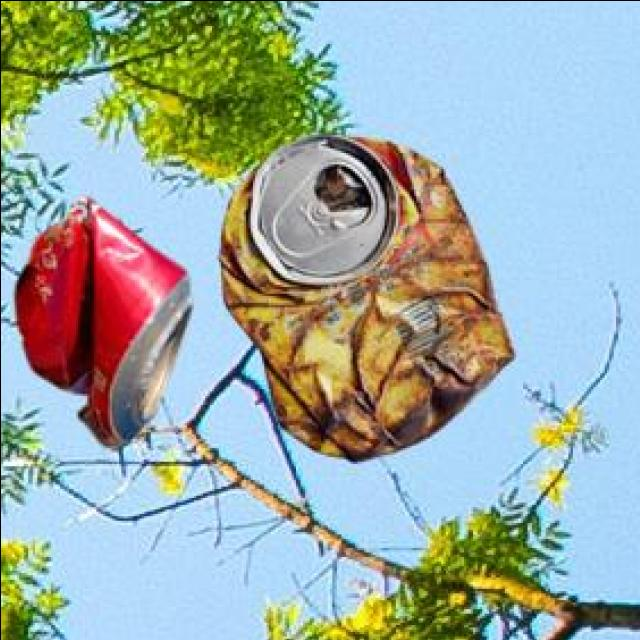logam: (214, 130, 510, 457), (12, 194, 187, 441)
